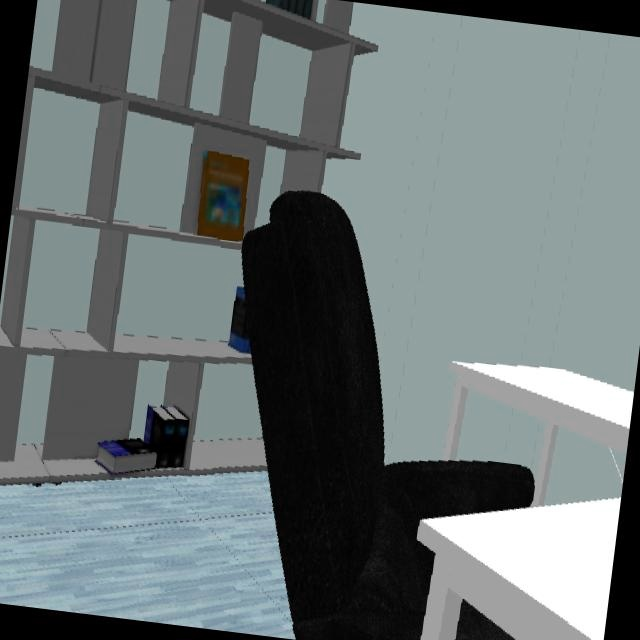book: (98, 406, 190, 480), (196, 150, 249, 242), (227, 288, 248, 354)
chair: (239, 191, 533, 640)
table: (416, 498, 619, 627), (449, 362, 634, 484)
